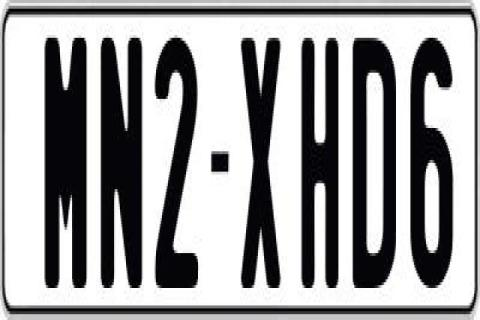0: (152, 32, 200, 296), (407, 29, 453, 285)
D: (350, 32, 398, 282)
H: (300, 38, 344, 288)
M: (40, 29, 84, 297)
N: (100, 38, 140, 294)
X: (238, 35, 278, 294)
